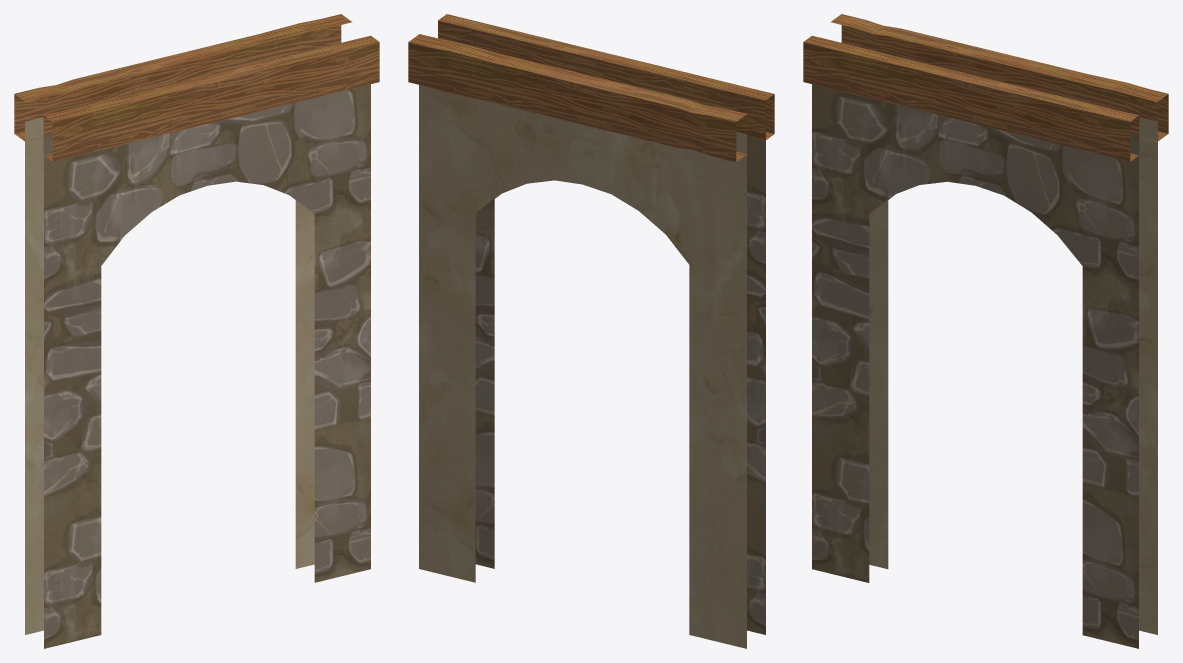
Rendered from Wall_UnevenBrick_Door_Round.glb.
The picture shows the model from 3 angles, left to right: view 1: azimuth 30°, elevation 25°; view 2: azimuth 150°, elevation 25°; view 3: azimuth 330°, elevation 25°; orthographic projection.
Visible parts, largest first — view 1: Wall_UnevenBrick_Door_Round; view 2: Wall_UnevenBrick_Door_Round; view 3: Wall_UnevenBrick_Door_Round.
Part boxes in pixels (left/top/right/bottom): Wall_UnevenBrick_Door_Round: left=14, top=14, right=379, bottom=648; Wall_UnevenBrick_Door_Round: left=408, top=14, right=774, bottom=648; Wall_UnevenBrick_Door_Round: left=803, top=14, right=1168, bottom=648.
Size of the model in its own units: 2 by 3.12 by 0.4065.
Materials: 3 (3 with a texture image).
